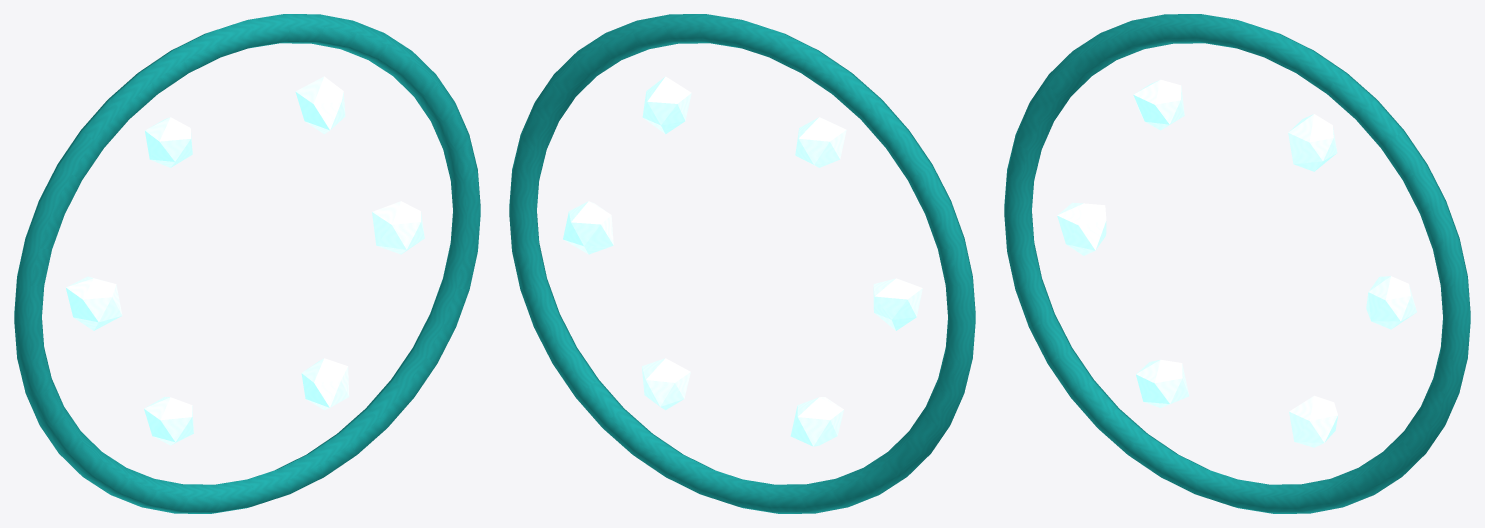
File: FXM_TealBeamEndpoint.fbx
The picture shows the model from 3 angles, left to right: view 1: azimuth 30°, elevation 25°; view 2: azimuth 150°, elevation 25°; view 3: azimuth 330°, elevation 25°; orthographic projection.
Visible parts, largest first — view 1: SM_FXM_TealBeamEndpoint; view 2: SM_FXM_TealBeamEndpoint; view 3: SM_FXM_TealBeamEndpoint.
Part boxes in pixels (left/top/right/bottom): SM_FXM_TealBeamEndpoint: left=14, top=14, right=480, bottom=513; SM_FXM_TealBeamEndpoint: left=509, top=14, right=975, bottom=513; SM_FXM_TealBeamEndpoint: left=1004, top=14, right=1470, bottom=513.
Bounding box in the file's own units: 85 × 8.71 × 85.
1 material, 1 textured.
